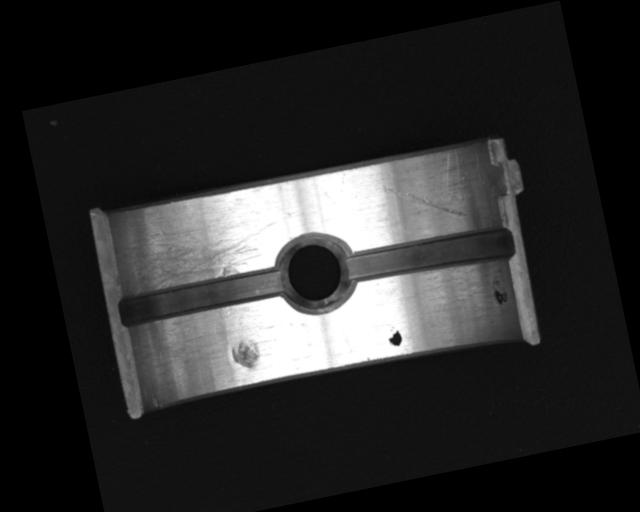blot: (489, 274, 510, 308), (385, 324, 404, 349)
bruise: (227, 336, 263, 373)
gap: (339, 219, 518, 293), (116, 262, 288, 330)
hole: (271, 228, 359, 318)
nick: (380, 170, 469, 234)
scratch: (118, 198, 284, 296)
